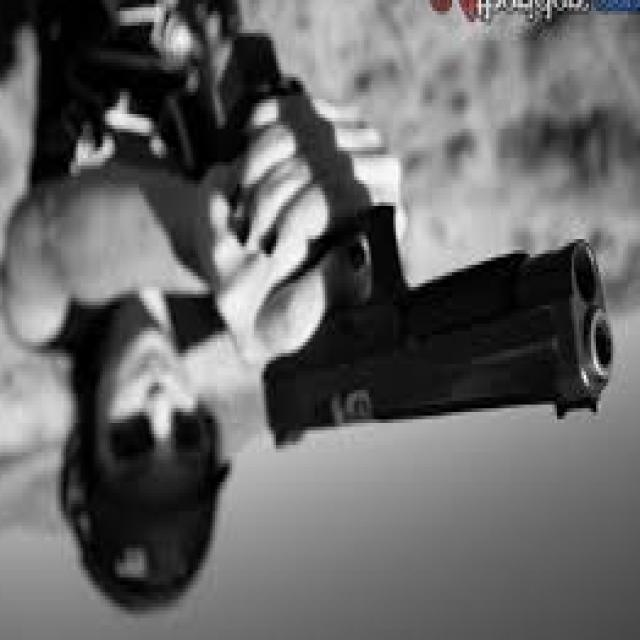gun: (206, 25, 616, 478)
